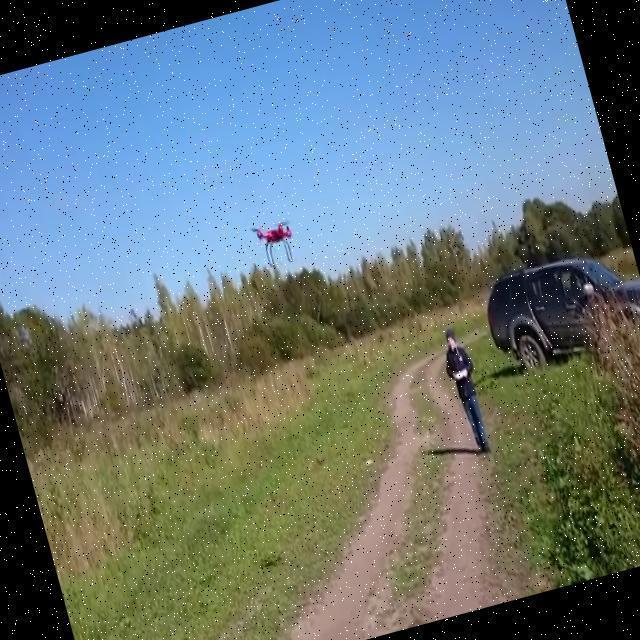Drons: (246, 213, 303, 273)
